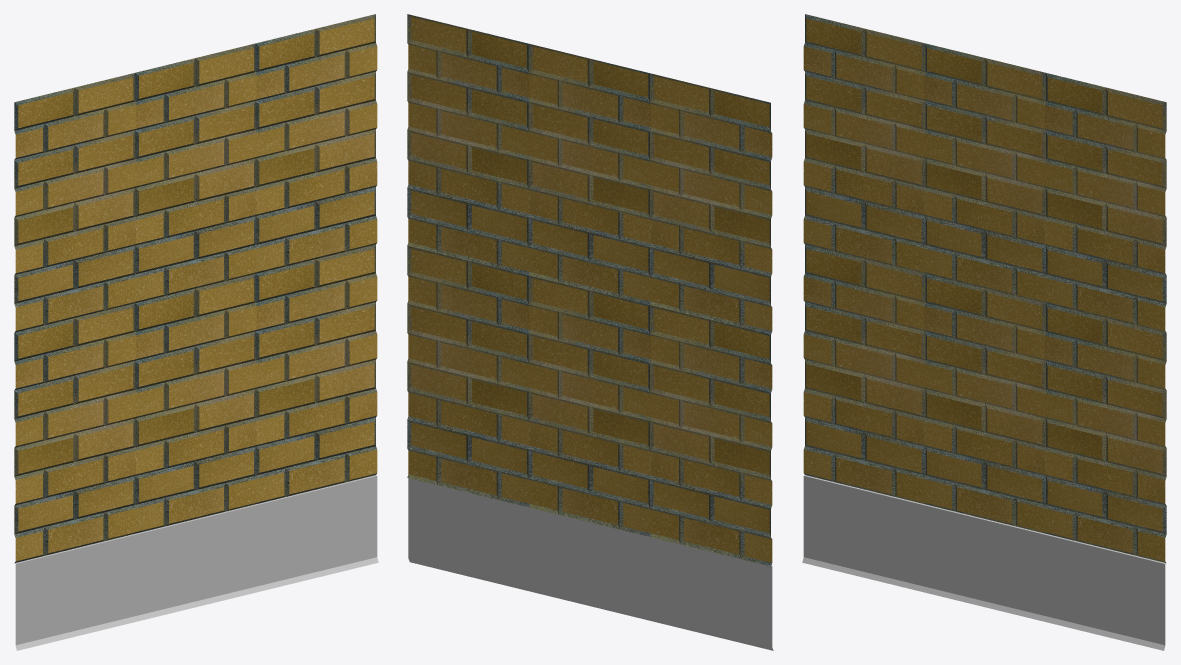
File: Parede3Madeira.fbx
The picture shows the model from 3 angles, left to right: view 1: azimuth 30°, elevation 25°; view 2: azimuth 150°, elevation 25°; view 3: azimuth 330°, elevation 25°; orthographic projection.
Parts seen in each view (by area): view 1: Plano.005; view 2: Plano.005; view 3: Plano.005.
Boxes of the visible parts, bbox=[...] form: Plano.005: bbox=[14, 14, 378, 650]; Plano.005: bbox=[407, 14, 773, 650]; Plano.005: bbox=[802, 14, 1166, 650].
Size of the model in its own units: 8775 by 12676 by 109.
